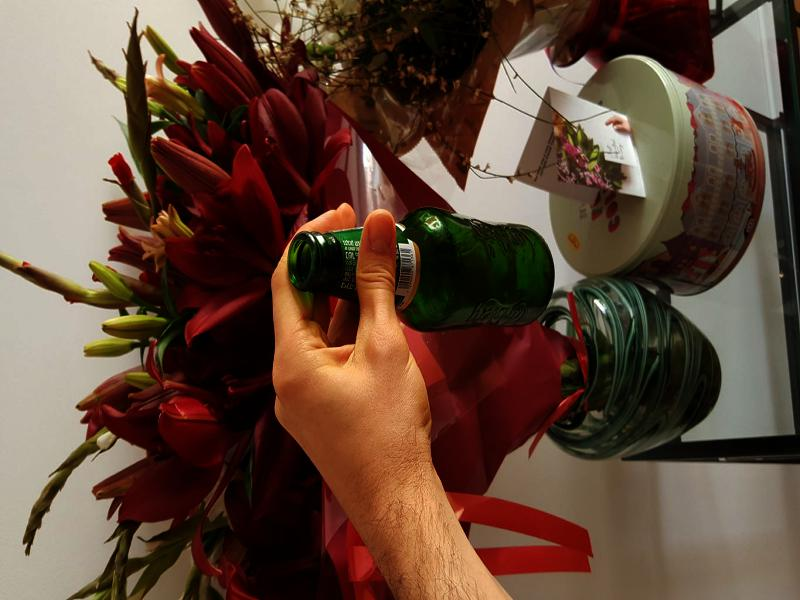Beer: (290, 207, 554, 327)
